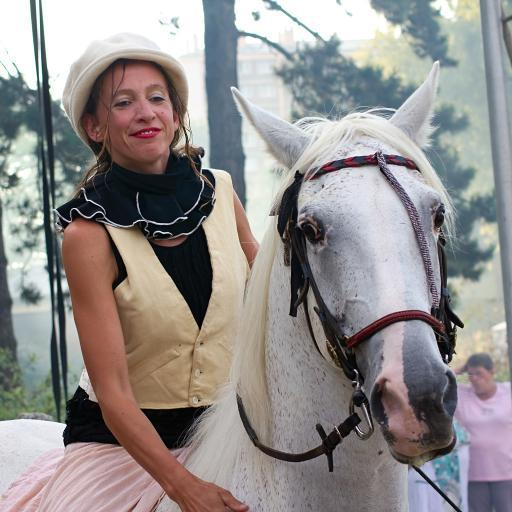horse: (0, 56, 468, 512)
